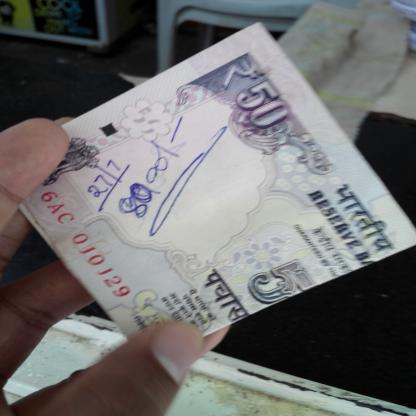Old50Front: (16, 20, 416, 342)
